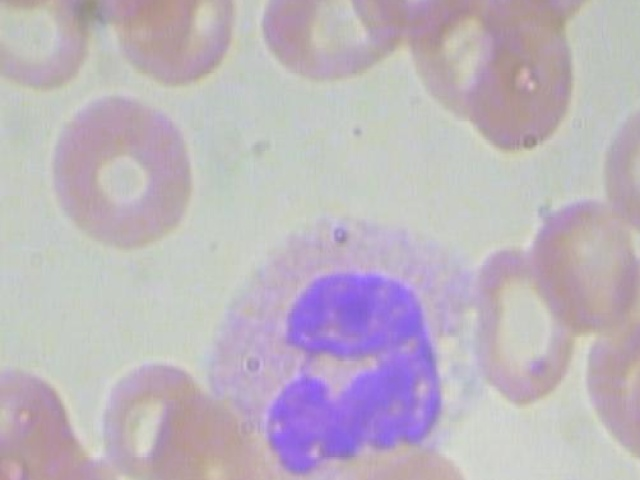RBC: (34, 87, 216, 269), (525, 191, 640, 334), (255, 0, 419, 88), (598, 93, 640, 236)
WBC: (195, 203, 519, 480)
